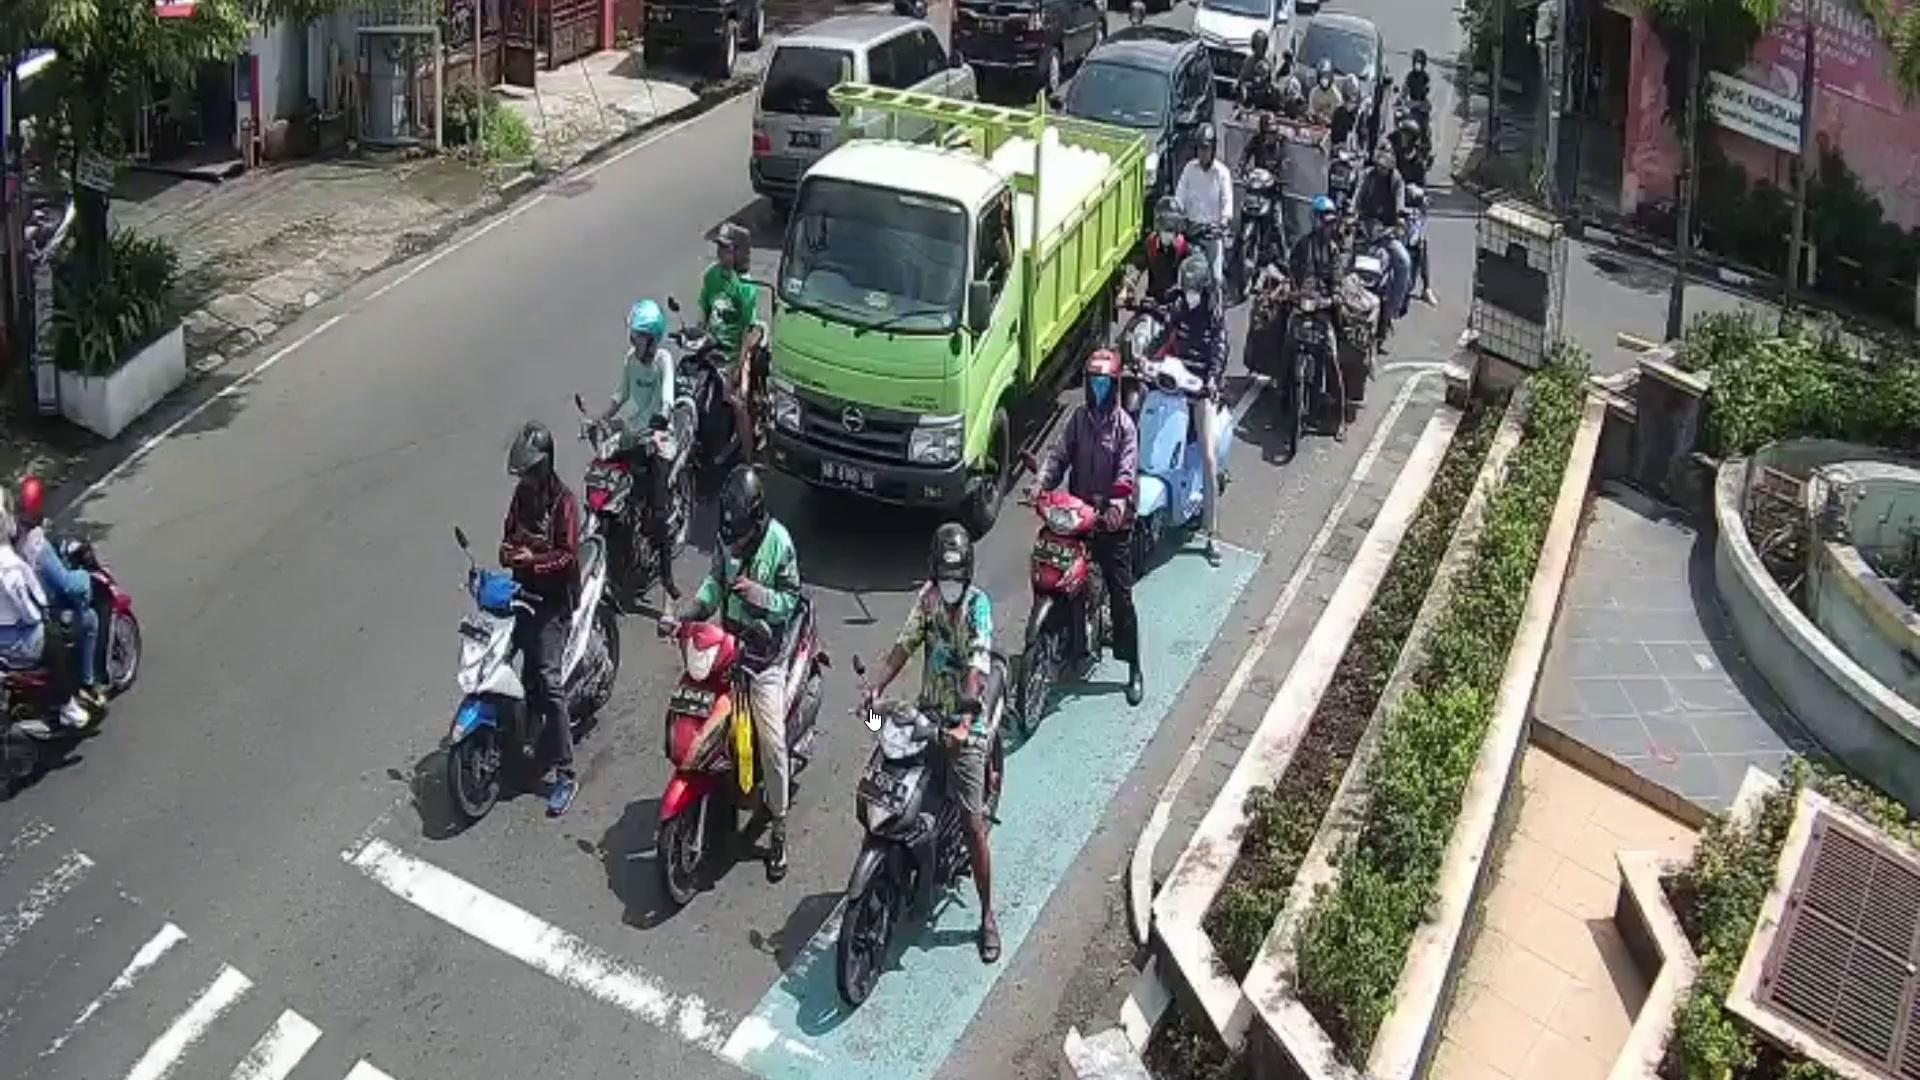car: (756, 12, 973, 202), (1065, 26, 1212, 216), (947, 0, 1105, 87), (1295, 12, 1383, 124), (1191, 0, 1288, 99)
motorbike: (844, 650, 1023, 1006), (647, 576, 820, 911), (446, 535, 625, 823), (0, 538, 142, 778), (1127, 355, 1233, 554), (1025, 488, 1106, 728), (579, 398, 694, 568), (1267, 286, 1340, 476), (1234, 162, 1274, 290)
truck: (766, 92, 1145, 524)
